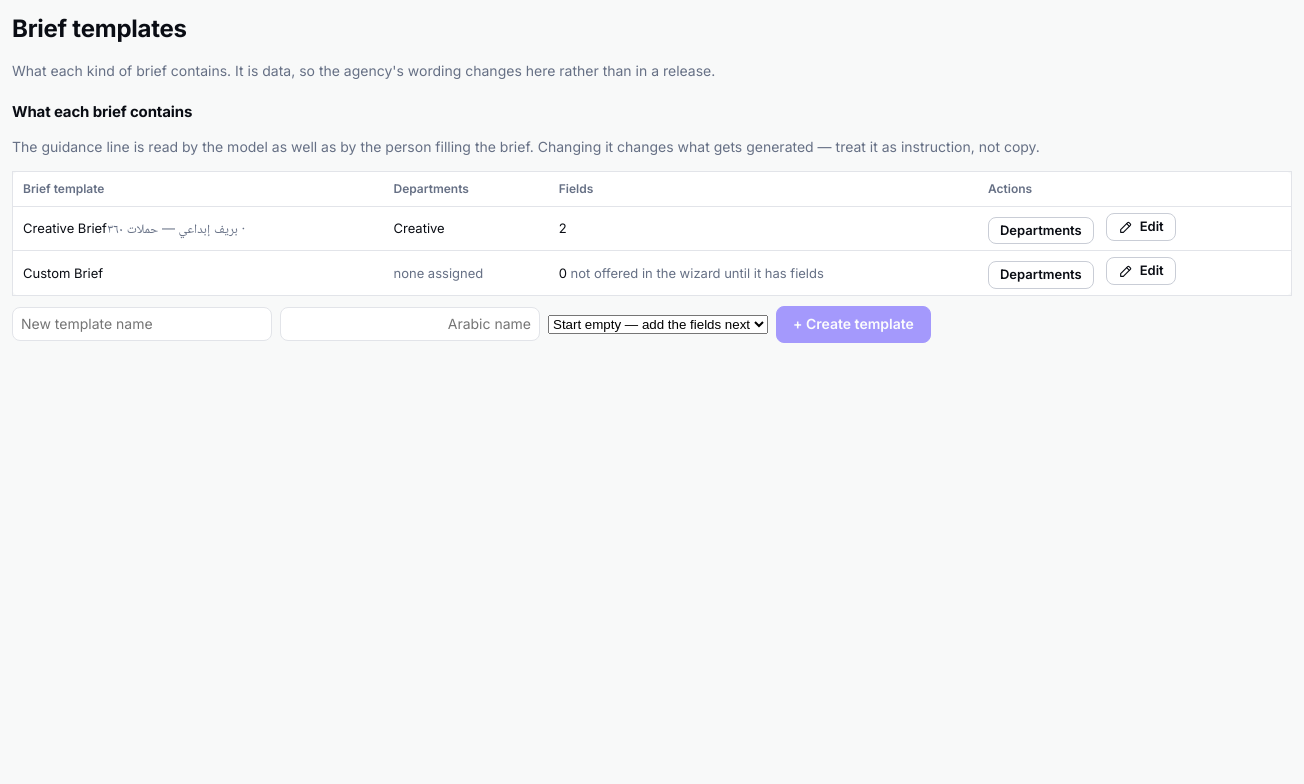
Test case: Admin → Brief templates (ADR-0048 d.2) › cannot add a field with no English label
Click the button with test id "brief-template-edit-360". click: (1141, 226)
box: [1106, 212, 1176, 240]
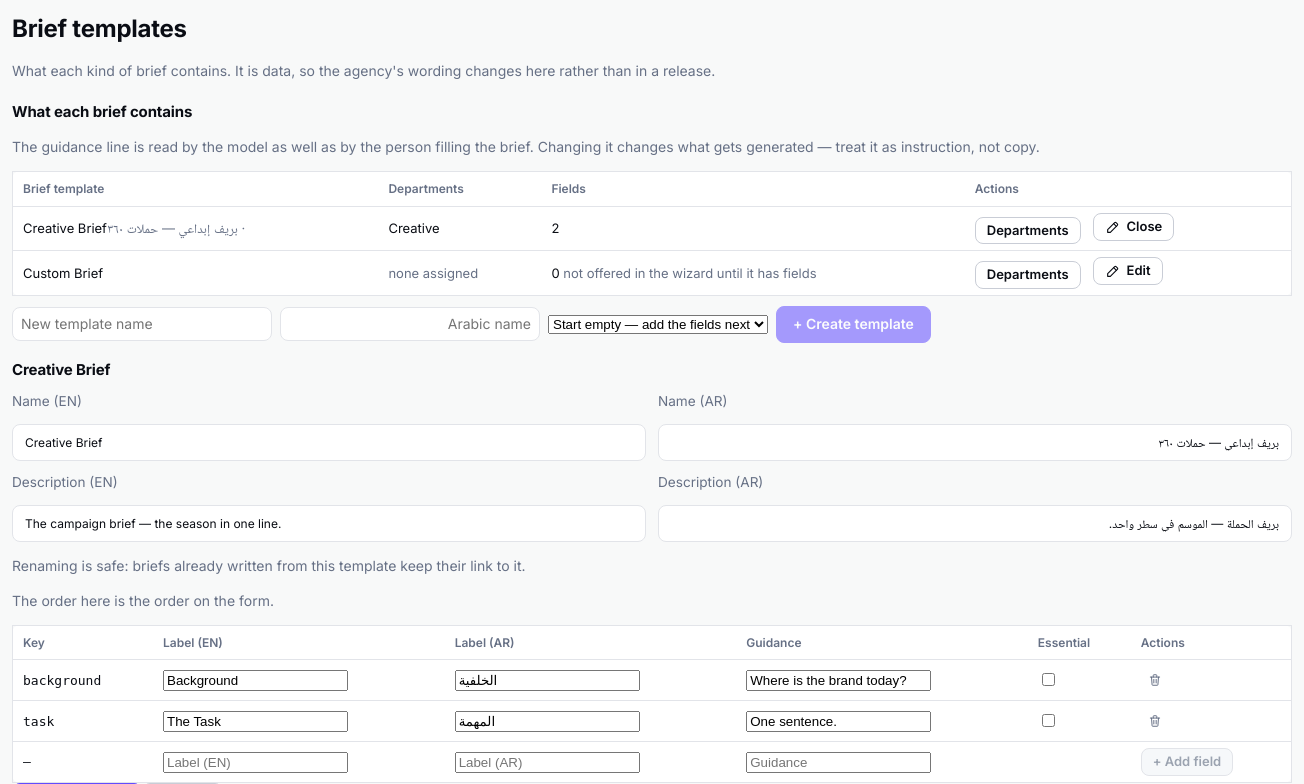
Result: the button with test id "brief-template-field-add" is disabled at [1141, 748, 1233, 776]
